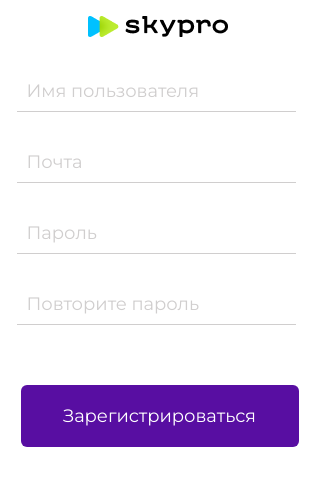
Test: Signup component › should display error when username field is less than 3 symbols on submit
Type "An" into the field with placeholder "Имя пользователя".
click(156, 91); type("An")  # box [16,70,296,112]
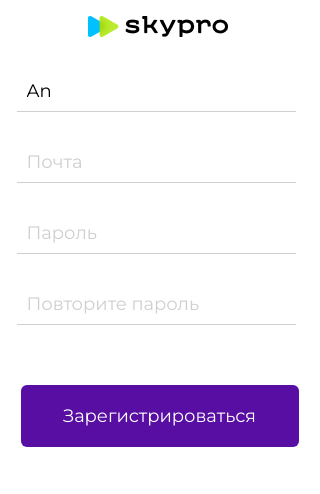
Click the link "Зарегистрироваться".
click(160, 416)  # box [63,404,256,426]
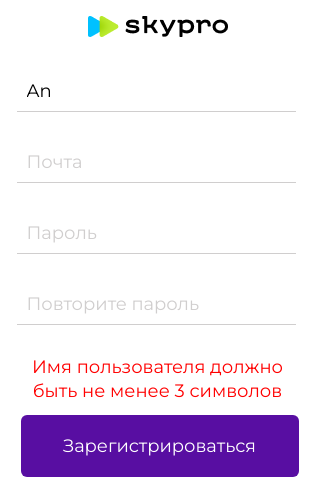
Expected: the text "Имя пользователя должно быть не менее 3 символов" is shown, [23,354,292,402]
